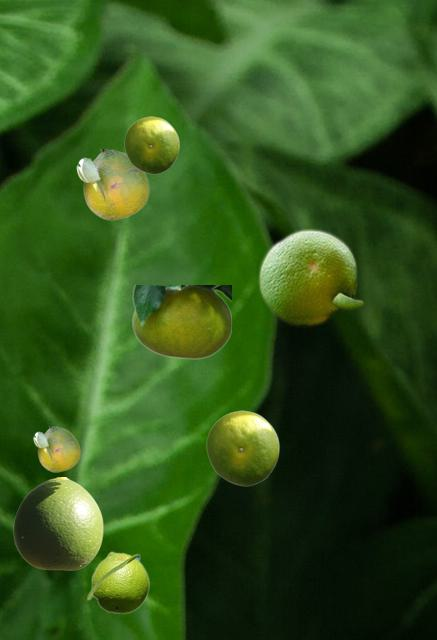dalandan: (257, 227, 364, 326), (13, 477, 102, 569), (132, 285, 230, 358), (206, 410, 278, 485), (76, 149, 148, 219), (86, 551, 149, 613), (124, 116, 178, 173), (33, 426, 79, 471)
